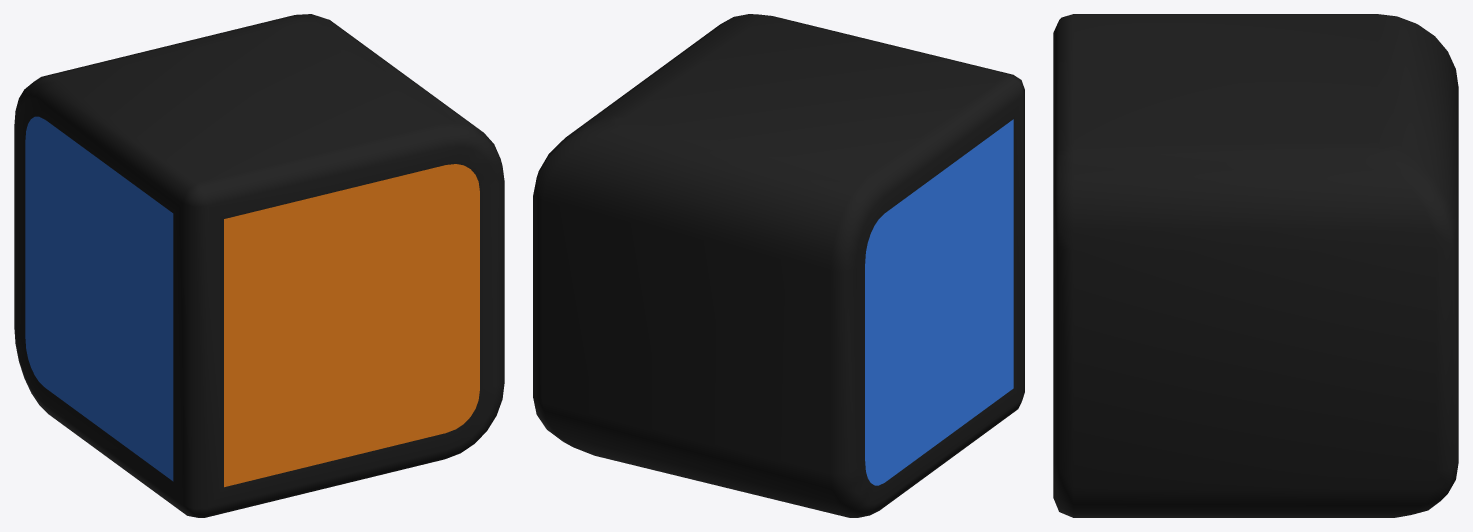
3 renders of one model, left to right at view 1: azimuth 30°, elevation 25°; view 2: azimuth 150°, elevation 25°; view 3: azimuth 270°, elevation 25°, orthographic. The views are drawn at different scales.
Visible parts, largest first — view 1: 10; view 2: 10; view 3: 10.
Boxes of the visible parts, x1,y1,x2,y2 form: 10: (14, 14, 504, 517); 10: (533, 14, 1024, 517); 10: (1053, 14, 1458, 517).
Bounding box in the file's own units: 2 × 2 × 2.
